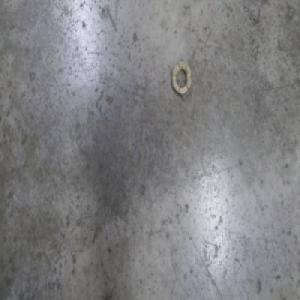Nut: (171, 56, 192, 96)
